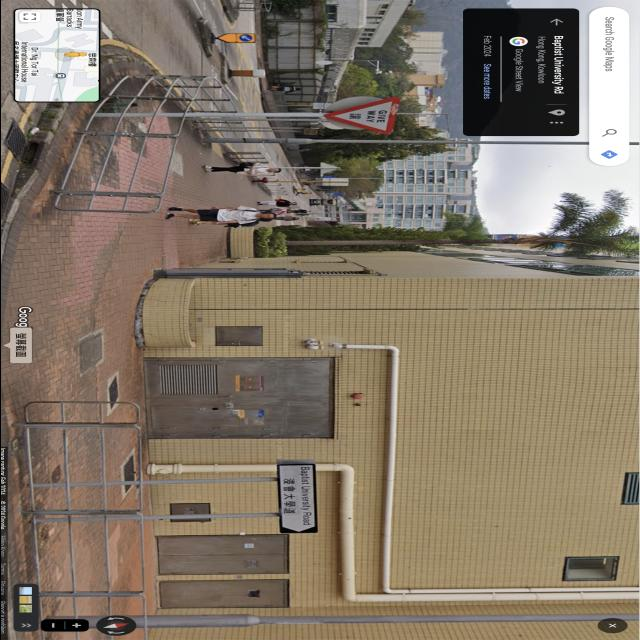Order-Sign: (238, 34, 252, 41)
Street-Direction-Sign: (278, 464, 317, 533)
Warning-Sign: (322, 97, 400, 136)
